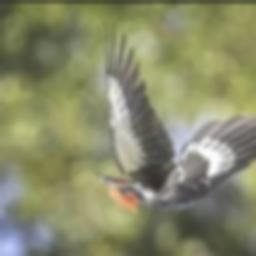Woodpecker: (96, 19, 256, 214)
